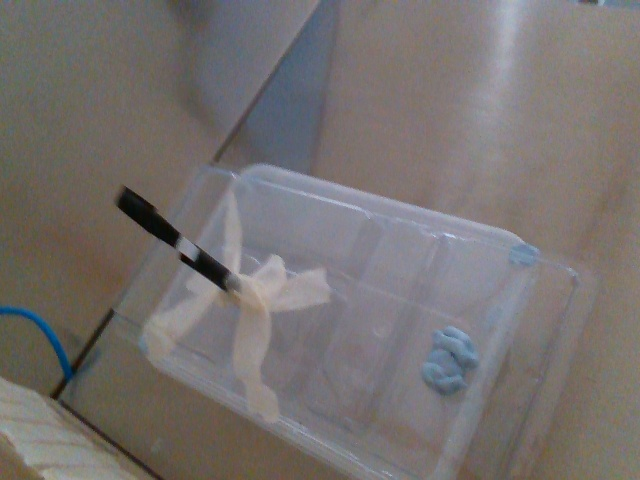test_strip: (110, 182, 198, 262)
